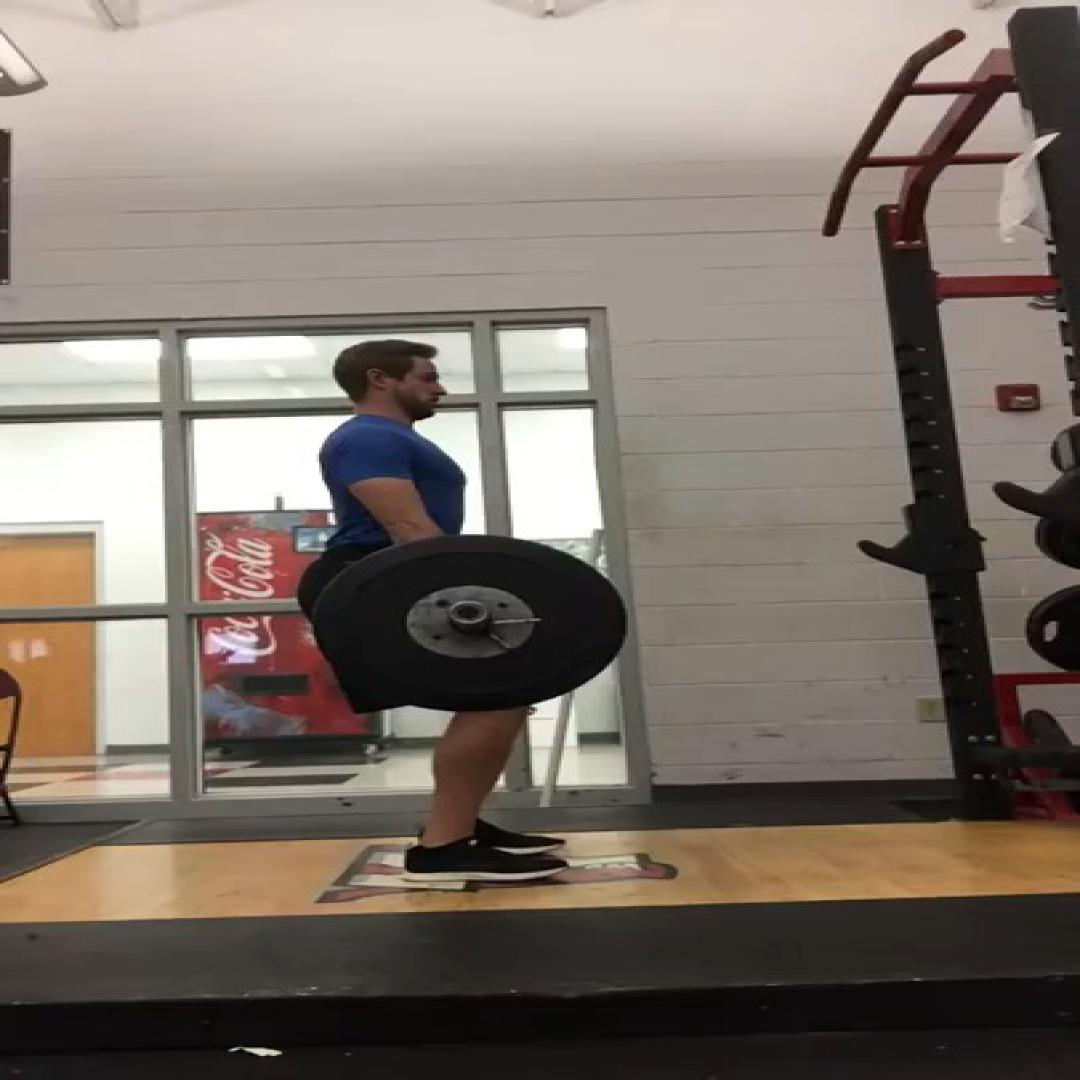Bar: (447, 600, 489, 624)
Barbell: (311, 534, 628, 711)
